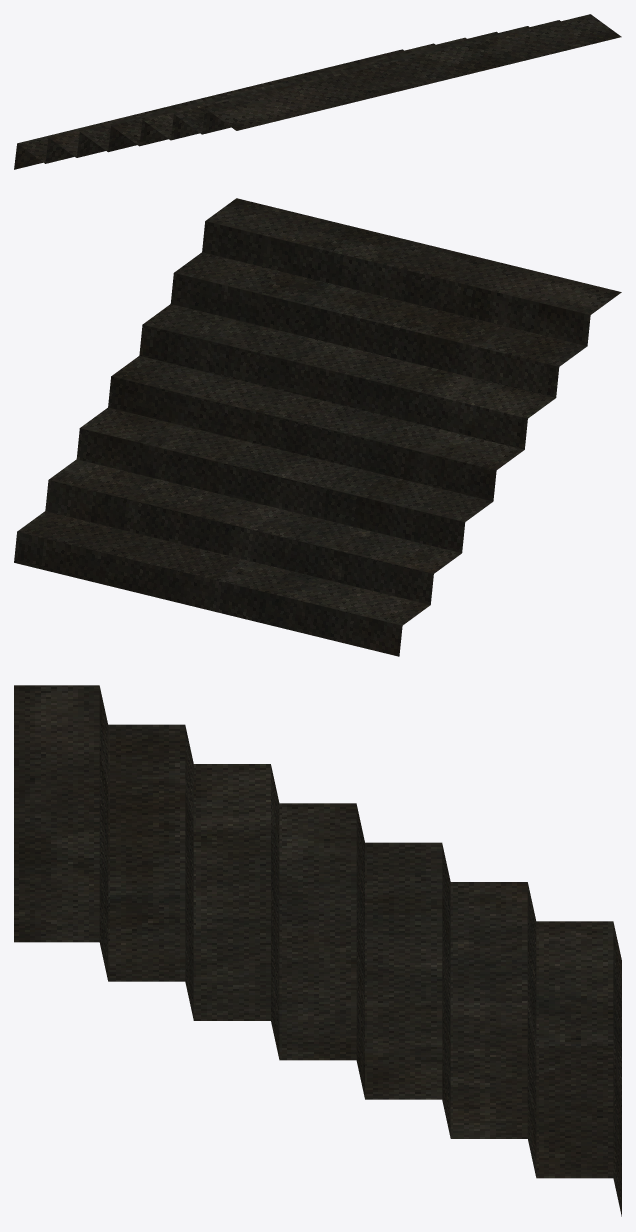
The model's file is stairs_1.glb.
The picture shows the model from 3 angles, top to bottom: view 1: azimuth 30°, elevation 25°; view 2: azimuth 150°, elevation 25°; view 3: azimuth 270°, elevation 25°; orthographic projection. The views are drawn at different scales.
Parts seen in each view (by area): view 1: stairs_1; view 2: stairs_1; view 3: stairs_1.
Part boxes in pixels (x1=…): stairs_1: x1=14, y1=14, x2=621, y2=169; stairs_1: x1=14, y1=198, x2=621, y2=656; stairs_1: x1=14, y1=685, x2=621, y2=1216.
Size of the model in its own units: 2 by 1 by 2.
1 material, 1 textured.
